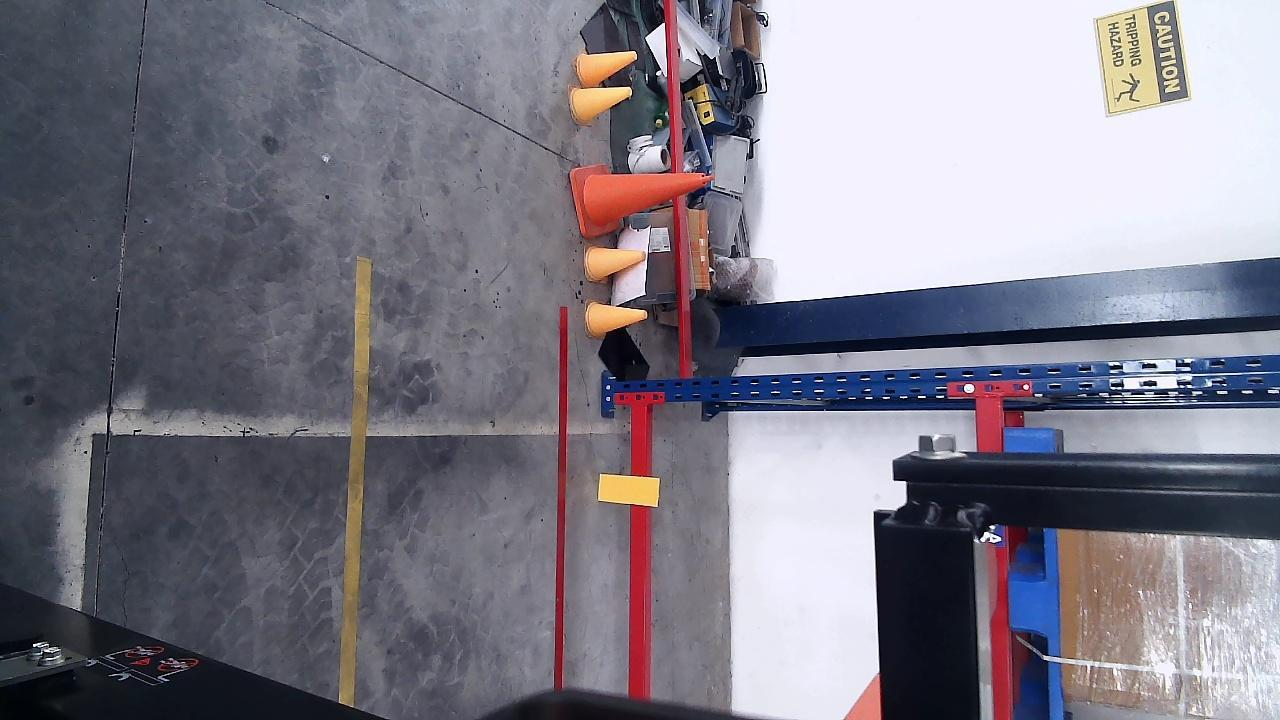h_rack: (626, 404, 649, 698)
orange_strip: (597, 472, 661, 505)
red_line: (551, 306, 567, 689)
yellow_line: (337, 257, 373, 708)
